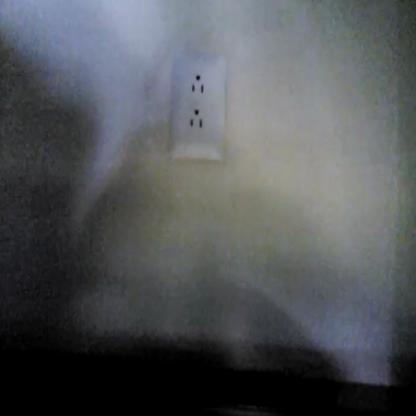OUTLET: (166, 52, 226, 163)
